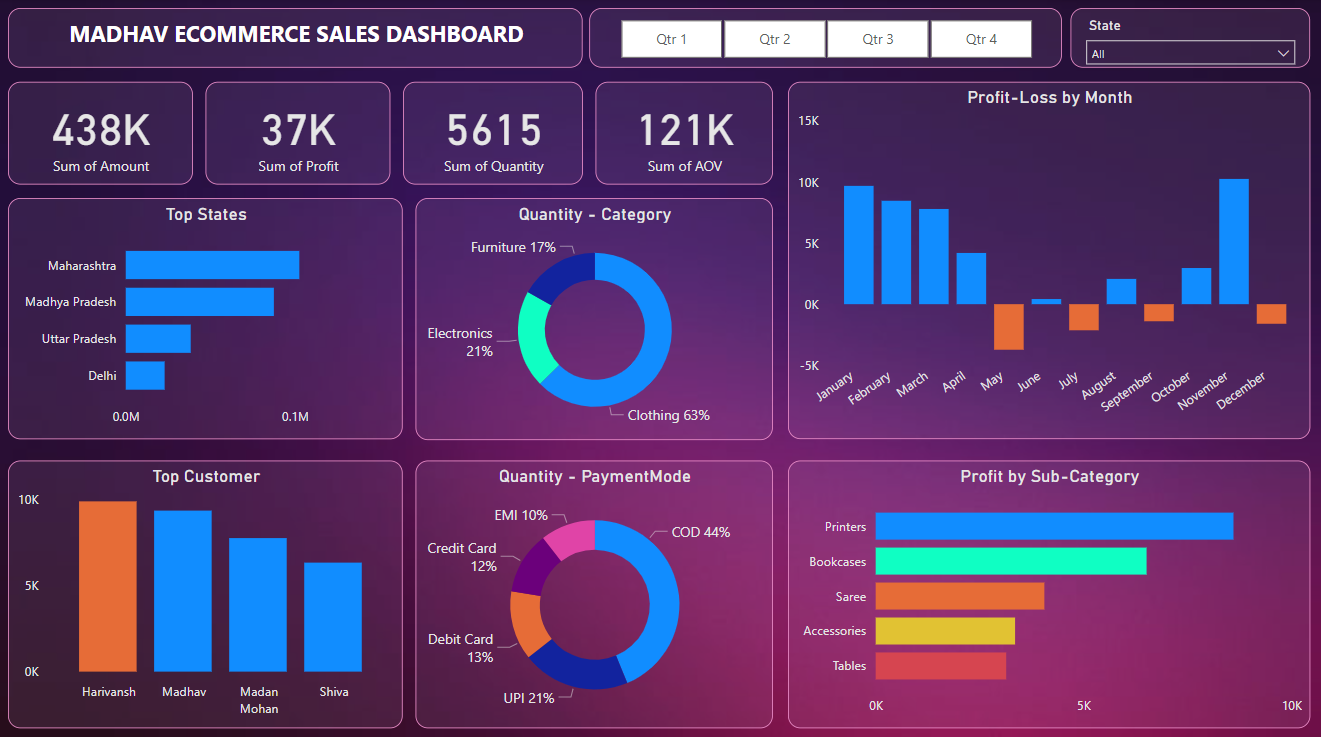

Layout of this report page (visuals, bound fields, positions):
{"tool":"powerbi","page":{"name":"Page 1","canvas":[1280,720],"ordinal":0},"visuals":[{"type":"textbox","box":[9.6,9.6,554.8,57.9],"z":0},{"type":"columnChart","title":"Profit-Loss by Month","fields":{"Category":["Orders.Order Date.Variation.Date Hierarchy.Month"],"Y":["Details.Profit"]},"box":[762.2,80.8,504.1,344.9],"z":1000},{"type":"barChart","title":"Profit by Sub-Category","fields":{"Category":["Details.Sub-Category"],"Y":["Details.Profit"]},"box":[762.2,446.2,504.1,258.1],"z":2000},{"type":"donutChart","title":"Quantity - Category","fields":{"Category":["Details.Category"],"Y":["Details.Quantity"]},"box":[402.8,193,344.9,234],"z":3000},{"type":"donutChart","title":"Quantity - PaymentMode","fields":{"Category":["Details.PaymentMode"],"Y":["Details.Quantity"]},"box":[402.8,446.2,344.9,258.1],"z":4000},{"type":"card","fields":{"Values":["Details.Amount"]},"box":[9.6,80.8,178.5,98.9],"z":5000},{"type":"card","fields":{"Values":["Details.Profit"]},"box":[200.2,80.8,178.5,98.9],"z":6000},{"type":"card","fields":{"Values":["Details.Quantity"]},"box":[390.8,80.8,173.7,98.9],"z":7000},{"type":"card","fields":{"Values":["Details.AOV"]},"box":[576.5,80.8,171.3,98.9],"z":8000},{"type":"barChart","title":"Top States","fields":{"Category":["Orders.State"],"Y":["Details.Amount"]},"box":[9.6,193,381.1,232.8],"z":9000},{"type":"columnChart","title":"Top Customer","fields":{"Category":["Orders.CustomerName"],"Y":["Details.Amount"]},"box":[9.6,446.2,381.1,258.1],"z":10000},{"type":"slicer","fields":{"Values":["Orders.Order Date.Variation.Date Hierarchy.Quarter"]},"box":[570.5,9.6,455.9,57.9],"z":11000},{"type":"slicer","fields":{"Values":["Orders.State"]},"box":[1034.8,9.6,231.6,57.9],"z":12000}]}

Visuals, with their boxes in screenshot pixels (x1, y1, x2, y2), scaled from the page's 1280x720 canvas onto the 1321x737 screenshot:
textbox: 10/10/582/69
"Profit-Loss by Month" columnChart: 787/83/1307/436
"Profit by Sub-Category" barChart: 787/457/1307/721
"Quantity - Category" donutChart: 416/198/772/437
"Quantity - PaymentMode" donutChart: 416/457/772/721
card - Details.Amount: 10/83/194/184
card - Details.Profit: 207/83/391/184
card - Details.Quantity: 403/83/583/184
card - Details.AOV: 595/83/772/184
"Top States" barChart: 10/198/403/436
"Top Customer" columnChart: 10/457/403/721
slicer - Orders.Order Date.Variation.Date Hierarchy.Quarter: 589/10/1059/69
slicer - Orders.State: 1068/10/1307/69
